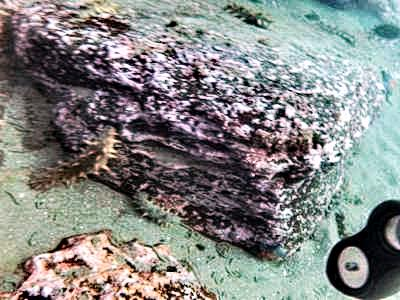urchin: (373, 20, 396, 40)
